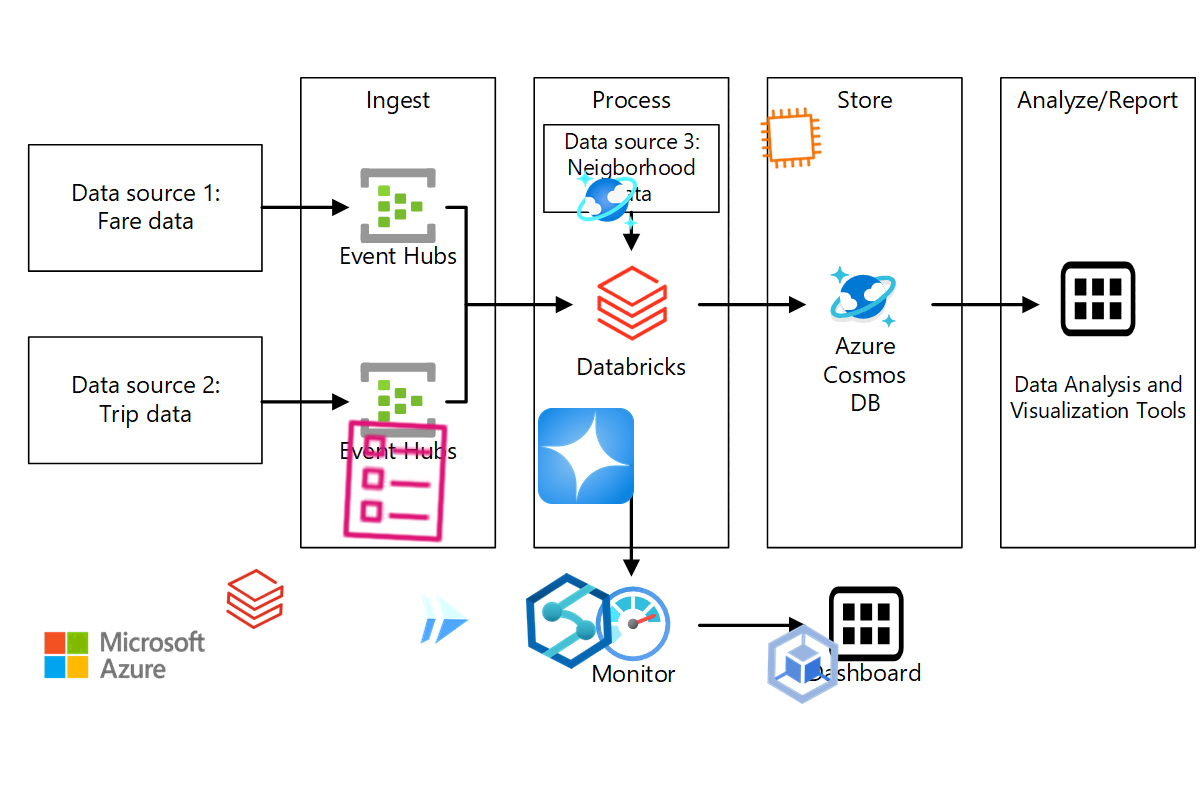aws_cloudformation_template: (326, 413, 462, 549)
aws_ec2_instance: (756, 103, 826, 173)
azure_cosmos_db: (574, 167, 640, 233)
azure_databricks: (221, 565, 289, 633)
azure_openai: (537, 407, 635, 505)
azure_synapse_analytics: (518, 570, 620, 672)
gcp_cloud_run: (411, 586, 477, 652)
gcp_google_kubernetes_engine: (753, 614, 853, 714)
